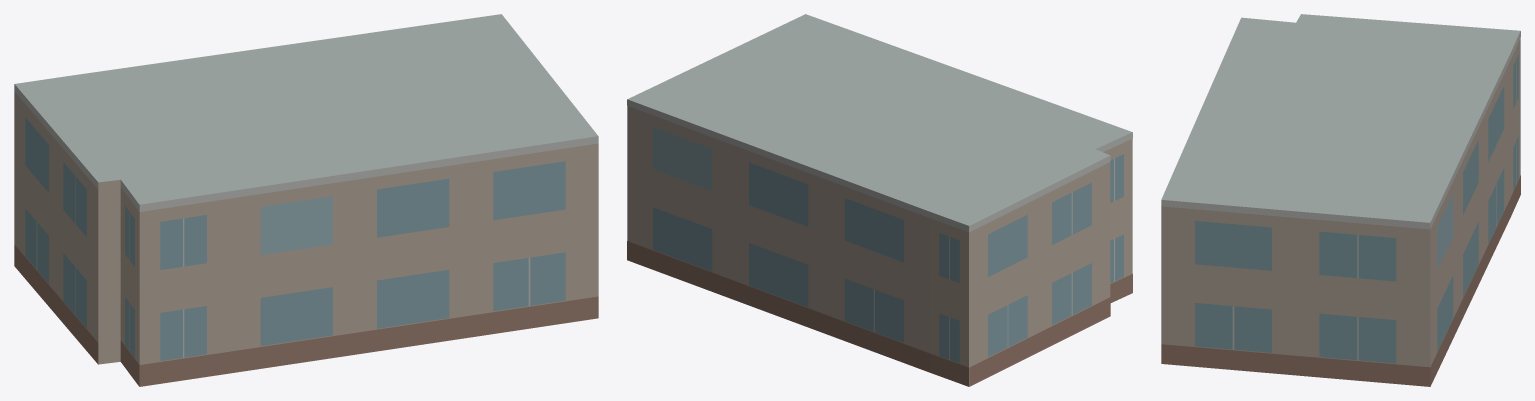
File: survey-upis-32669101.glb
3 views of the same model, side by side, from view 1: azimuth 30°, elevation 25°; view 2: azimuth 150°, elevation 25°; view 3: azimuth 270°, elevation 25° (orthographic). The views are drawn at different scales.
Parts seen in each view (by area): view 1: survey-upis-32669101.tmp; view 2: survey-upis-32669101.tmp; view 3: survey-upis-32669101.tmp.
Boxes of the visible parts, bbox=[...] form: survey-upis-32669101.tmp: bbox=[14, 14, 598, 386]; survey-upis-32669101.tmp: bbox=[627, 14, 1132, 386]; survey-upis-32669101.tmp: bbox=[1161, 14, 1520, 386].
Bounding box in the file's own units: 16.67 × 6.1 × 12.13.
